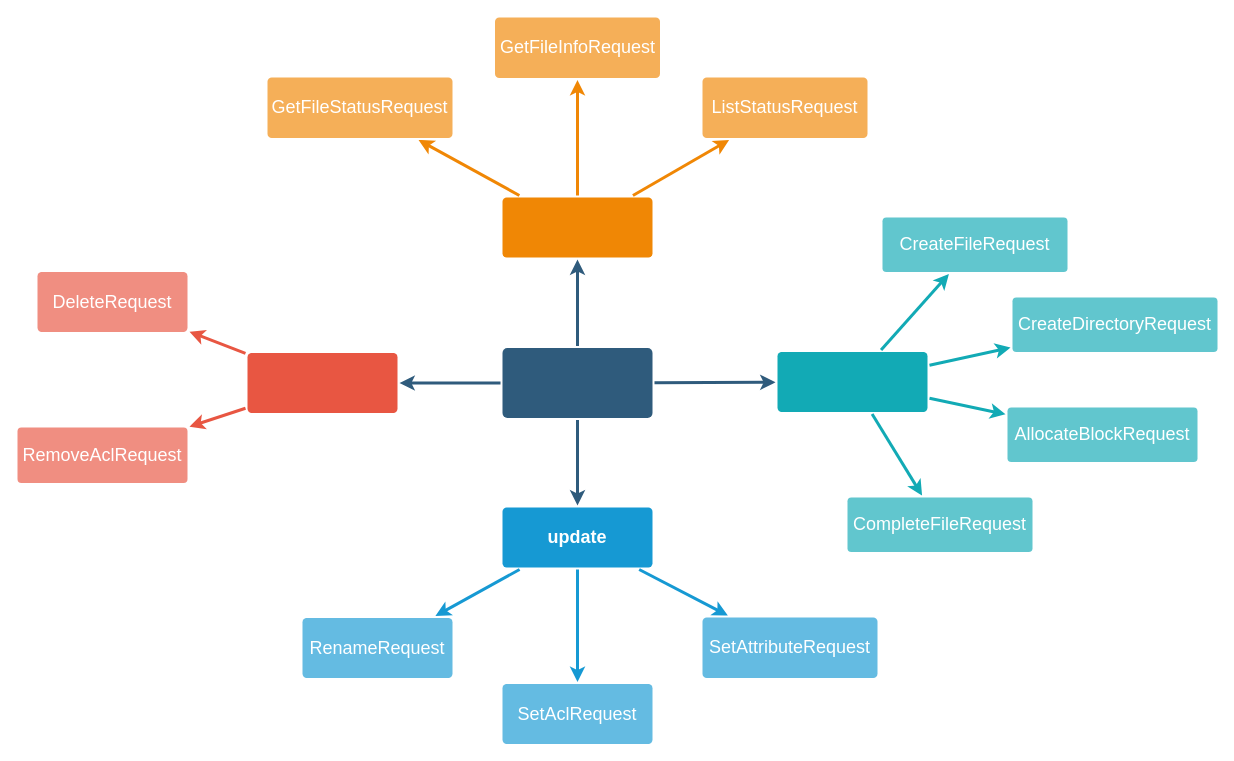
Some shapes in this 1234 by 761 pixel diagram are drawn without their labels. The shapes that lost their labels are listed below. From the top down, each one's centre as x and y in pixels, then its label:
At point (577, 227): "query".
At point (322, 382): "delete".
At point (577, 383): "OMClient".
At point (852, 382): "create".
